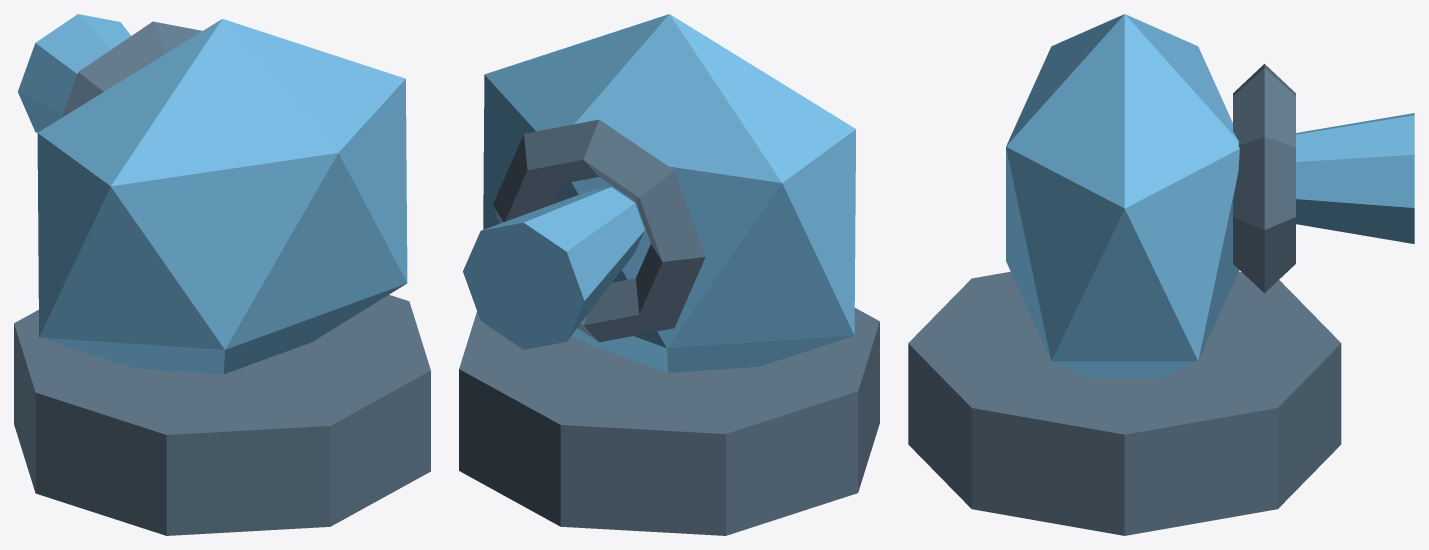
File: Siren_SiphoningShell_Blockout.fbx
The picture shows the model from 3 angles, left to right: view 1: azimuth 30°, elevation 25°; view 2: azimuth 150°, elevation 25°; view 3: azimuth 270°, elevation 25°; orthographic projection.
Visible parts, largest first — view 1: Siren_SiphoningShell; view 2: Siren_SiphoningShell; view 3: Siren_SiphoningShell.
Part boxes in pixels (x1,y1,x2,y2): Siren_SiphoningShell: (14,14,430,535); Siren_SiphoningShell: (459,14,879,535); Siren_SiphoningShell: (908,14,1414,535).
Bounding box in the file's own units: 0.62 × 0.68 × 0.725.
